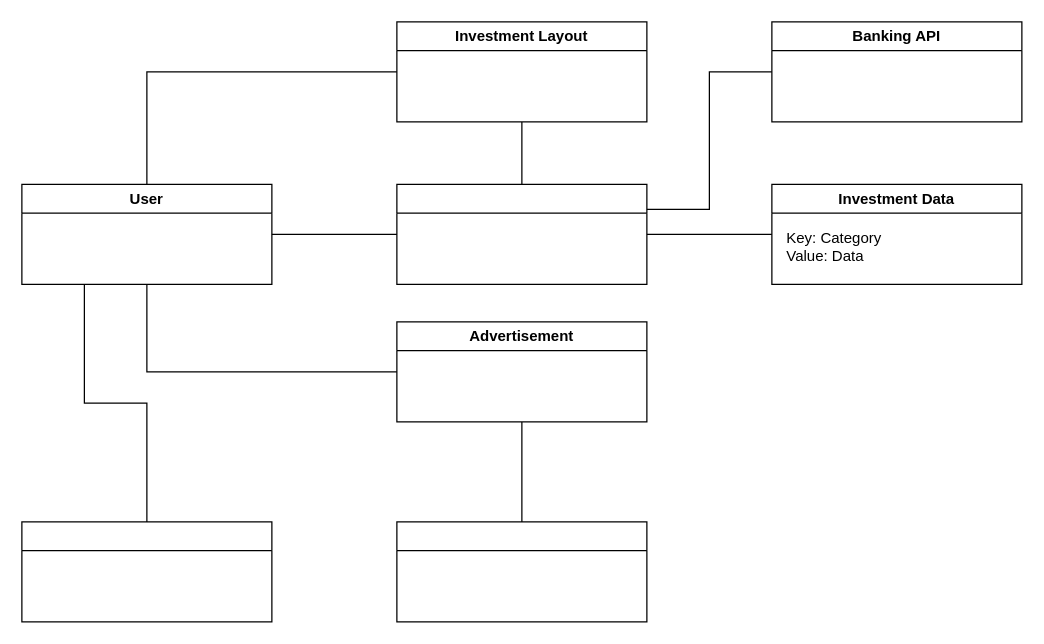
The diagram is 1044 pixels wide and 644 high, and some of its shapes have lost their labels. The shapes that lost their labels are listed below. From the top down, each one's centre as x and y in pixels, then its label:
the point at 521,233: Investment
the point at 146,571: eProcessing
the point at 521,571: Issuer
